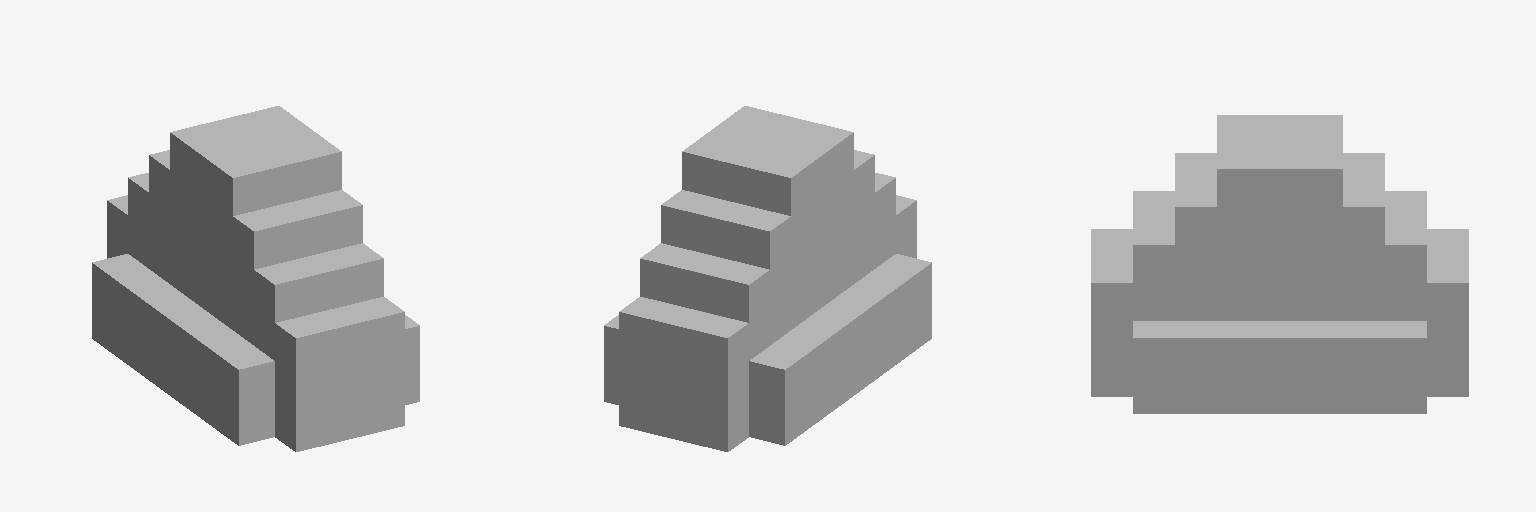
The model's file is bush1.obj.
3 renders of one model, left to right at view 1: azimuth 30°, elevation 25°; view 2: azimuth 150°, elevation 25°; view 3: azimuth 270°, elevation 25°, orthographic.
Visible parts, largest first — view 1: object 1; view 2: object 1; view 3: object 1.
Part boxes in pixels (x1,y1,x2,y2): object 1: (92,106,419,451); object 1: (604,106,931,451); object 1: (1091,115,1468,413).
Size of the model in its own units: 0.5 by 0.6 by 0.9.